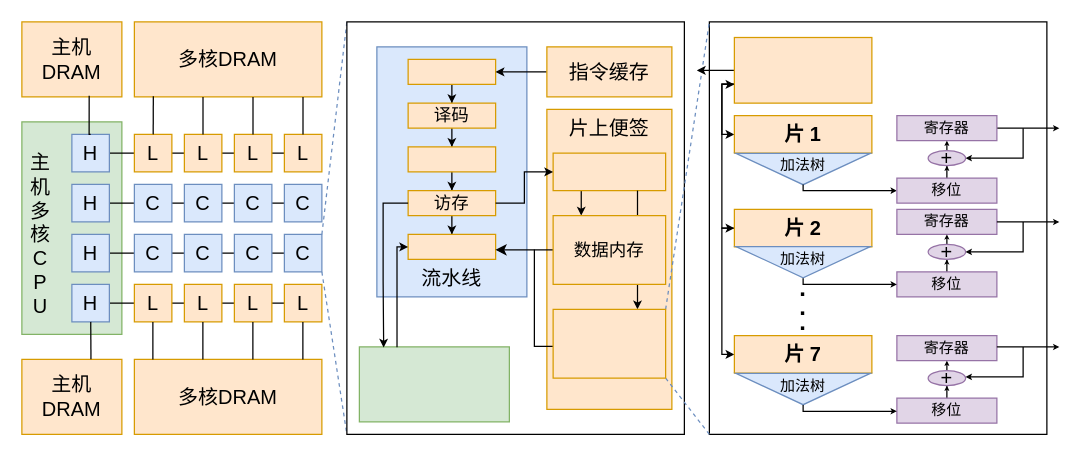
The diagram is 1086 pixels wide and 458 high, and some of its shapes have lost their labels. Here are the shapes that lost their labels. From the top down, the centre of each, then its label:
At point (451, 71): "取指".
At point (802, 69): "片 0 二维SRAM阵列".
At point (451, 159): "执行".
At point (609, 171): "指令发射队列".
At point (451, 246): "写回".
At point (609, 343): "计算内存".
At point (433, 384): "网卡路由器".
